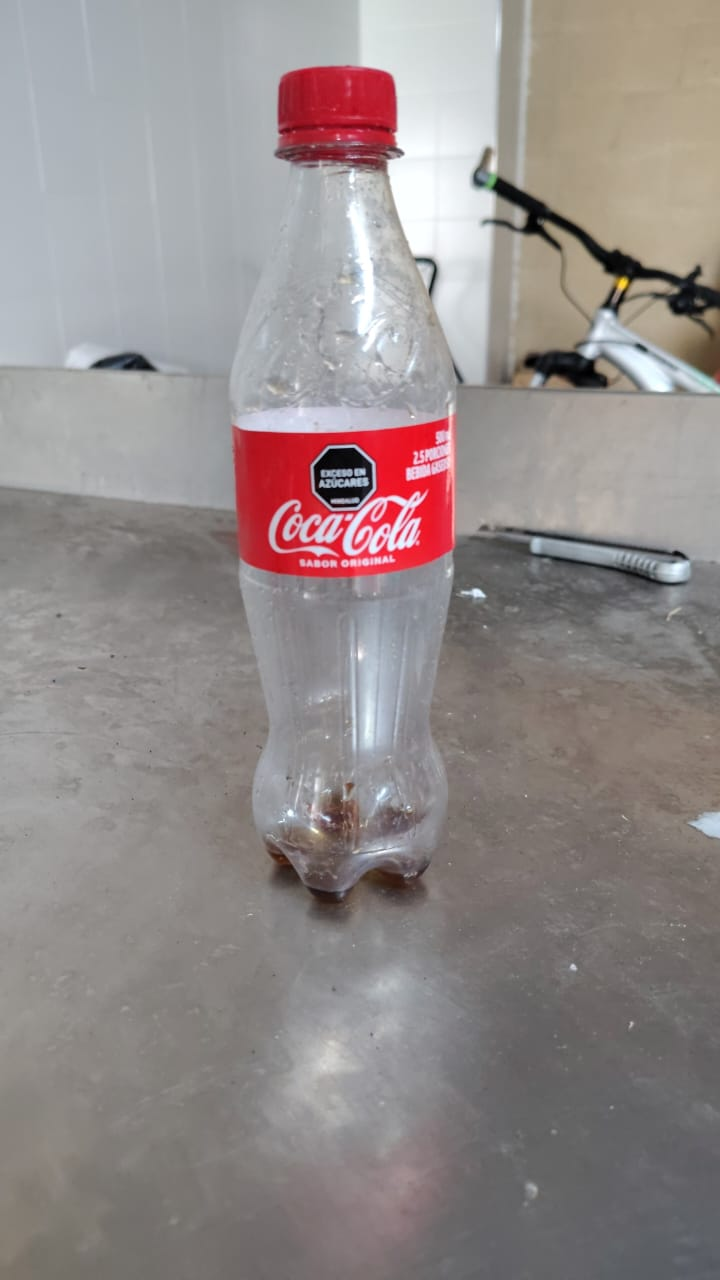Plastico: (229, 62, 453, 898)
